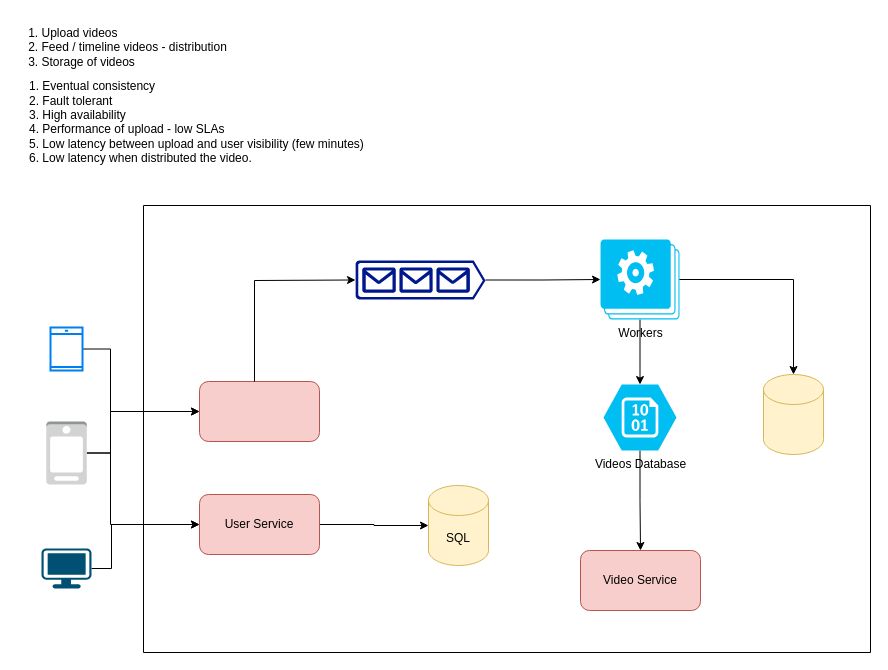
The diagram is 888 pixels wide and 670 high, and some of its shapes have lost their labels. The shapes that lost their labels are listed below. From the top down, each one's centre as x and y in pixels, then its label:
At point 259,411: "Ingestion Service".
At point 793,414: "Video Metadata (NoSQL)".
